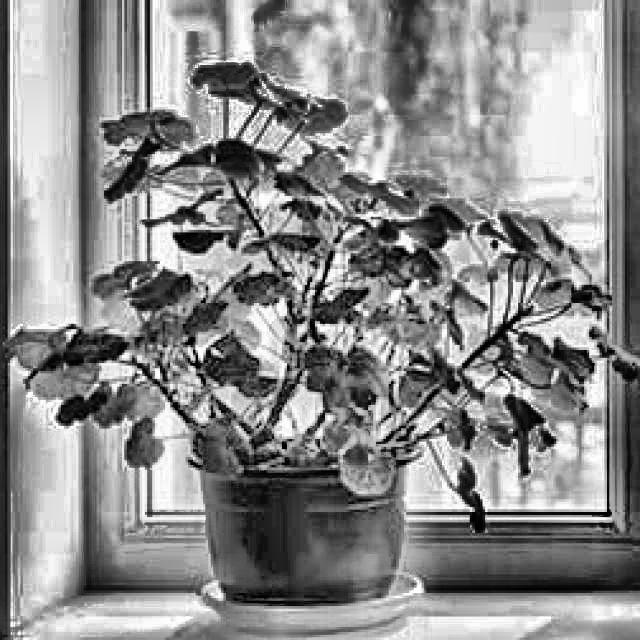plants: (47, 96, 598, 593)
